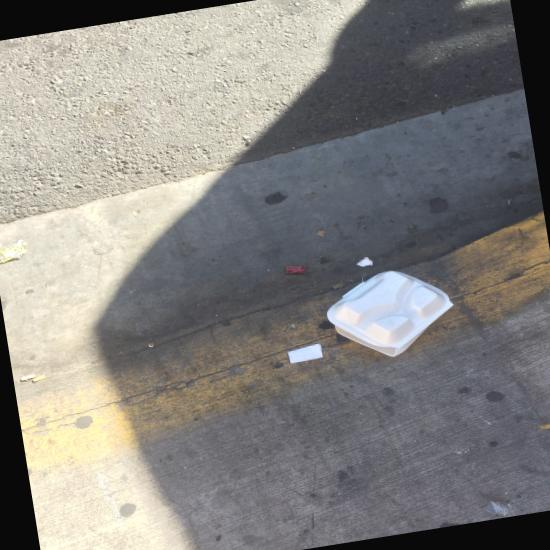Cigarette: (31, 374, 47, 382), (21, 373, 37, 380)
Foam food container: (327, 270, 453, 356)
Other plastic: (285, 265, 306, 273)
Plastic film: (471, 501, 522, 522)
Unlabeled litter: (287, 343, 322, 363), (356, 256, 372, 266)
